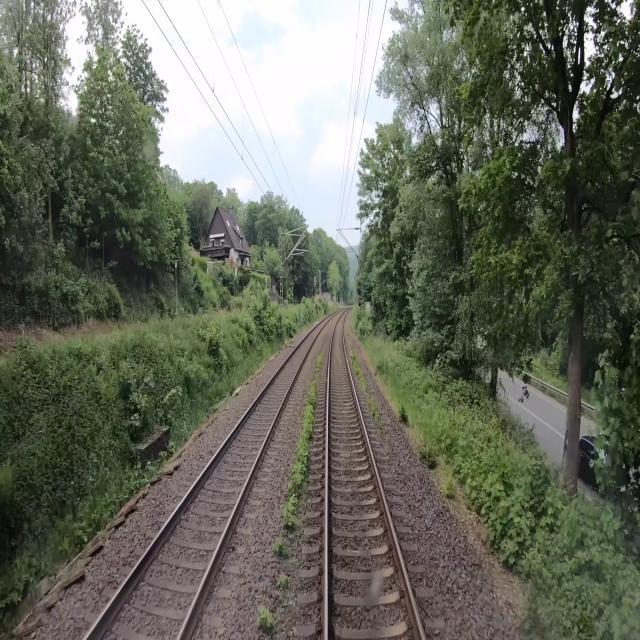Plant: (283, 353, 324, 530), (346, 331, 384, 429), (255, 605, 274, 633), (272, 540, 290, 558), (276, 575, 288, 590)
